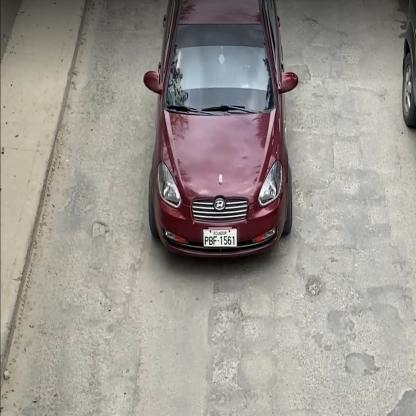Placa: (203, 230, 237, 246)
